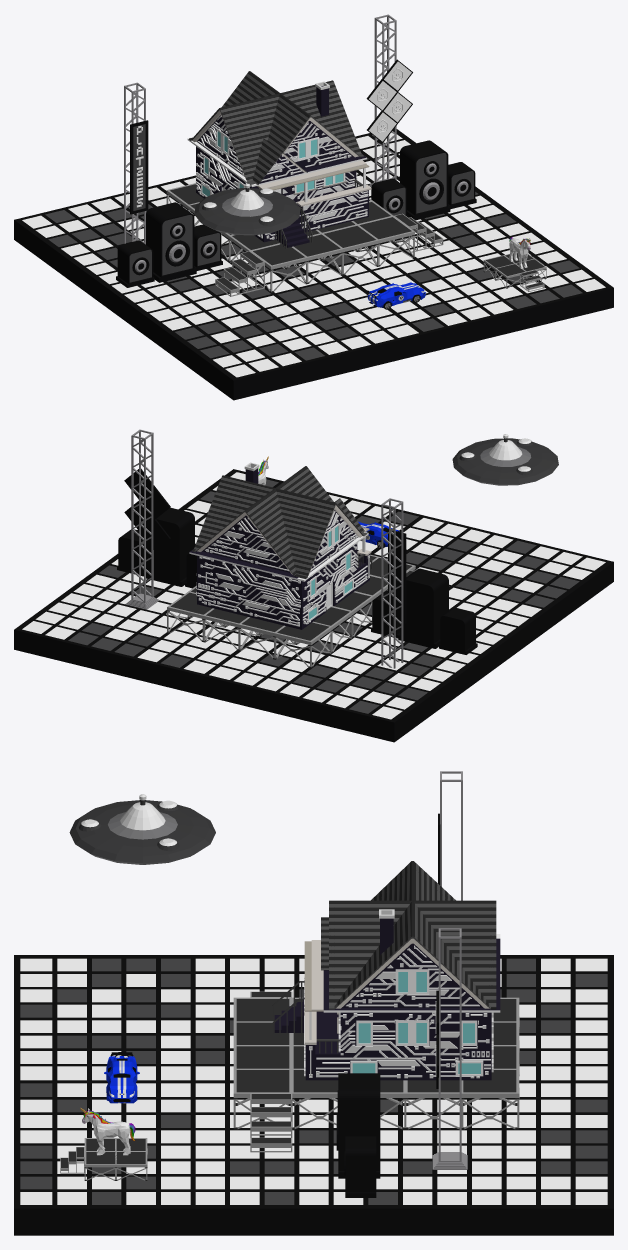
The picture shows the model from 3 angles, top to bottom: view 1: azimuth 30°, elevation 25°; view 2: azimuth 150°, elevation 25°; view 3: azimuth 270°, elevation 25°; orthographic projection. The views are drawn at different scales.
Visible parts, largest first — view 1: Cube.008, Cube.918, OBJRANDOM_UFO, VEHICLES_RACING_CAR; view 2: Cube.008, Cube.918, OBJRANDOM_UFO, VEHICLES_RACING_CAR; view 3: Cube.008, Cube.918, OBJRANDOM_UFO, VEHICLES_RACING_CAR, ANIMAL_UNICORNIO.
Boxes of the visible parts, x1,y1,x2,y2 form: Cube.008: [14, 14, 613, 400]; Cube.918: [187, 71, 371, 248]; OBJRANDOM_UFO: [194, 183, 300, 235]; VEHICLES_RACING_CAR: [367, 282, 425, 309]; Cube.008: [14, 429, 613, 742]; Cube.918: [189, 462, 372, 629]; OBJRANDOM_UFO: [452, 434, 558, 485]; VEHICLES_RACING_CAR: [358, 521, 400, 548]; Cube.008: [14, 771, 613, 1235]; Cube.918: [272, 861, 500, 1080]; OBJRANDOM_UFO: [69, 794, 215, 864]; VEHICLES_RACING_CAR: [104, 1052, 139, 1103]; ANIMAL_UNICORNIO: [80, 1108, 135, 1155].
Size of the model in its own units: 4000 by 1945 by 4000.
Materials: 46 (1 with a texture image).
